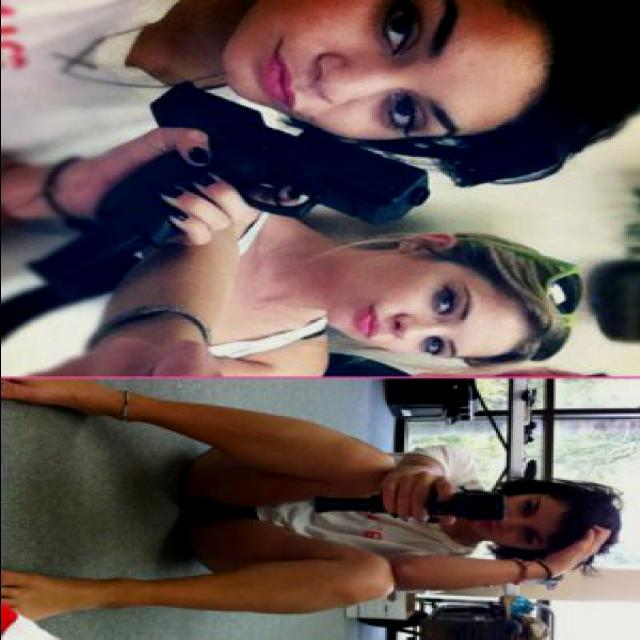handgun: (41, 78, 430, 298), (316, 486, 512, 518)
